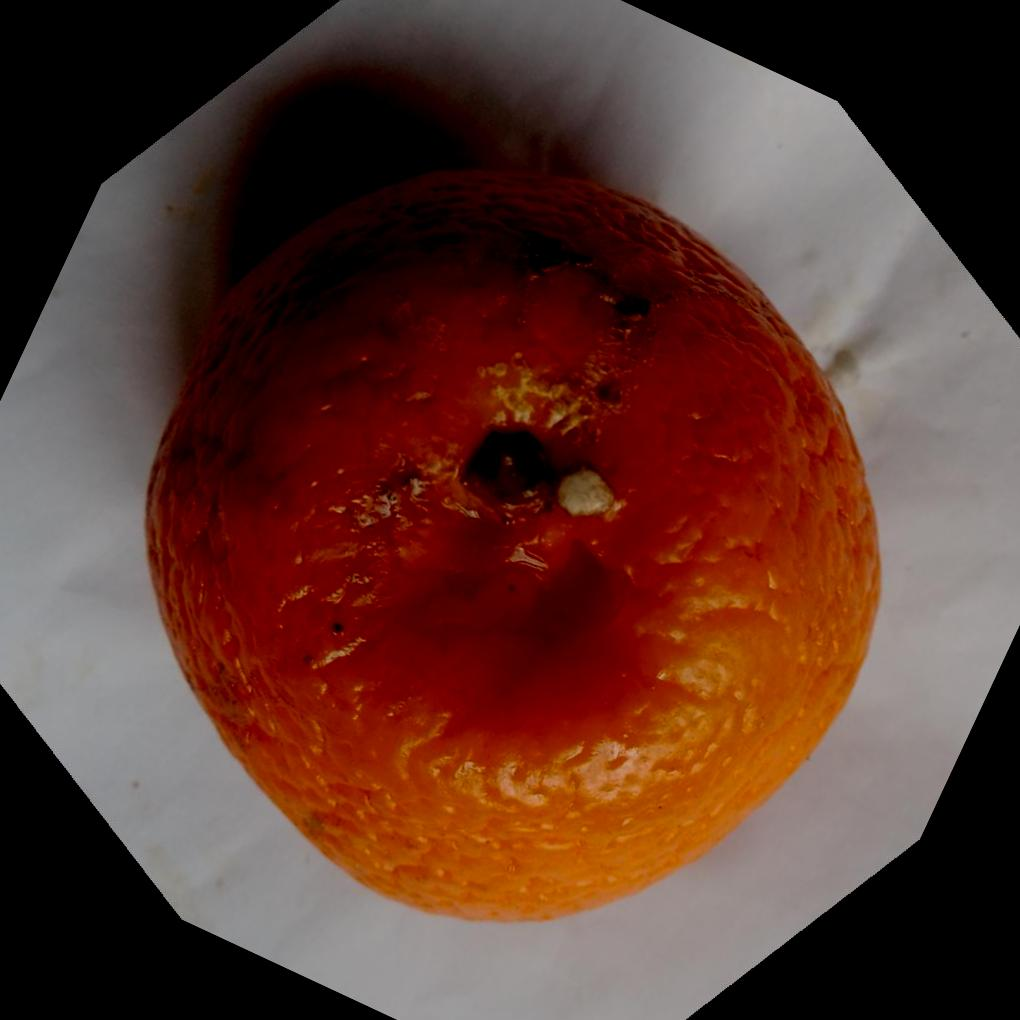FreshOrange: (144, 161, 885, 923)
